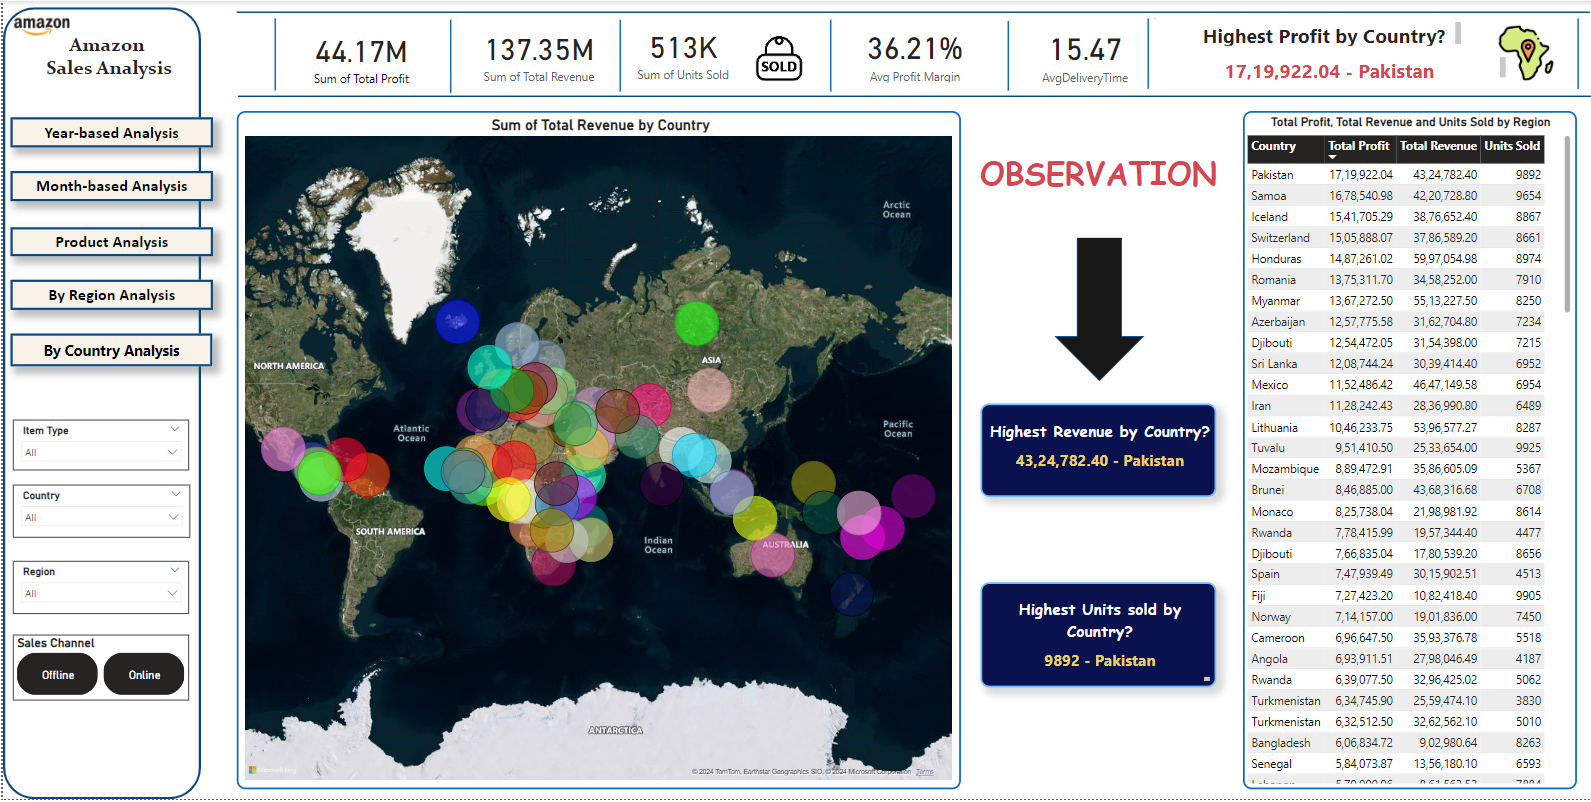

What the dashboard file says about the page in this screenshot:
{"tool":"powerbi","page":{"name":"By Country Analysis","canvas":[2200,1100],"ordinal":5},"visuals":[{"type":"shape","box":[0,9.3,272.8,1091],"z":0,"group":"g1"},{"type":"shape","box":[321.3,0,1864.2,30.9],"z":0},{"type":"textbox","box":[35.5,39.2,220.4,84.1],"z":1000,"group":"g1"},{"type":"shape","box":[323.2,115.8,1864.5,31.8],"z":1000},{"type":"card","fields":{"Values":["Sum(Amazon Sales data.Total Profit)"]},"box":[412.9,31.8,160.7,89.7],"z":2000},{"type":"actionButton","box":[10.4,235.6,278.9,41.6],"z":2000,"group":"g1"},{"type":"shape","box":[612.8,26.2,7.5,100.9],"z":3000},{"type":"actionButton","box":[10.4,311.8,278.9,39.8],"z":3000,"group":"g1"},{"type":"shape","box":[844.4,26.2,13.1,99],"z":4000},{"type":"actionButton","box":[10.4,384.5,278.9,41.6],"z":4000,"group":"g1"},{"type":"card","fields":{"Values":["Sum(Amazon Sales data.Total Revenue)"]},"box":[653.9,29.9,168.1,87.8],"z":5000},{"type":"slicer","fields":{"Values":["Amazon Sales data.Item Type"]},"box":[13.9,576.8,242.5,69.3],"z":5000,"group":"g1"},{"type":"shape","box":[1580.5,24.3,13.1,95.3],"z":6000},{"type":"slicer","fields":{"Values":["Amazon Sales data.Country"]},"box":[13.9,666.9,244.3,72.8],"z":6000,"group":"g1"},{"type":"card","fields":{"Values":["Sum(Amazon Sales data.Units Sold)"]},"box":[857.5,26.2,158.8,89.7],"z":7000},{"type":"slicer","fields":{"Values":["Amazon Sales data.Region"]},"box":[13.9,772.6,242.5,72.8],"z":7000,"group":"g1"},{"type":"shape","box":[1135.9,26.2,7.5,99],"z":8000},{"type":"advancedSlicerVisual","fields":{"Values":["Amazon Sales data.Sales Channel"]},"box":[13.9,873.1,242.5,90.1],"z":8000,"group":"g1"},{"type":"card","fields":{"Values":["Amazon Sales data.Avg Profit Margin"]},"box":[1165.8,26.2,181.2,91.5],"z":9000},{"type":"actionButton","box":[10.4,161.1,278.9,41.6],"z":9000,"group":"g1"},{"type":"image","box":[9.3,14.9,89.7,43],"z":10000,"group":"g1"},{"type":"shape","box":[368,24.3,13.1,99],"z":11000},{"type":"image","box":[1016.3,41.1,106.5,76.6],"z":12000},{"type":"textbox","box":[1634.7,24.3,379.2,43],"z":13000},{"type":"textbox","box":[1588,72.9,487.6,41.1],"z":14000},{"type":"shape","box":[2167.1,24.3,3.7,97.1],"z":15000},{"type":"group","id":"g1","title":"Group 1","box":[0,9.3,289.3,1091],"z":16000},{"type":"card","fields":{"Values":["Amazon Sales data.AvgDeliveryTime"]},"box":[1388.1,24.3,205.5,99],"z":17000},{"type":"map","fields":{"Category":["Amazon Sales data.Country"]},"box":[322.4,151,998,934.7],"z":18000},{"type":"tableEx","title":"Total Profit, Total Revenue and Units Sold by Region","fields":{"Values":["Amazon Sales data.Country","Amazon Sales data.Total Profit","Amazon Sales data.Total Revenue","Amazon Sales data.Units Sold"]},"box":[1707.7,151.9,459.6,934.6],"z":19000},{"type":"shape","box":[1573,24.3,7.5,97.1],"z":20000},{"type":"shape","box":[1380.8,26.9,7.7,96.2],"z":21000},{"type":"shape","box":[10.3,457.3,278.1,45.3],"z":22000},{"type":"textbox","title":"Highest Revenue by Country?","box":[1346.9,555.1,324.5,128.6],"z":23000},{"type":"textbox","title":"Highest Units sold by Country?","box":[1346.9,800,324.5,144.9],"z":24000},{"type":"shape","box":[1449,324.5,124.5,200],"z":25000},{"type":"textbox","box":[1334.7,202,349,124.5],"z":26000},{"type":"image","box":[2028.8,28.8,138.5,84.6],"z":27000}]}

Visuals, with their boxes in screenshot pixels (x1, y1, x2, y2), scaled from the page's 2200x1100 canvas onto the 1591x802 screenshot:
shape: x1=0 y1=7 x2=197 y2=801
shape: x1=232 y1=0 x2=1581 y2=23
textbox: x1=26 y1=29 x2=185 y2=90
shape: x1=234 y1=84 x2=1582 y2=108
card - Sum(Amazon Sales data.Total Profit): x1=299 y1=23 x2=415 y2=89
actionButton: x1=8 y1=172 x2=209 y2=202
shape: x1=443 y1=19 x2=449 y2=93
actionButton: x1=8 y1=227 x2=209 y2=256
shape: x1=611 y1=19 x2=620 y2=91
actionButton: x1=8 y1=280 x2=209 y2=311
card - Sum(Amazon Sales data.Total Revenue): x1=473 y1=22 x2=594 y2=86
slicer - Amazon Sales data.Item Type: x1=10 y1=421 x2=185 y2=471
shape: x1=1143 y1=18 x2=1152 y2=87
slicer - Amazon Sales data.Country: x1=10 y1=486 x2=187 y2=539
card - Sum(Amazon Sales data.Units Sold): x1=620 y1=19 x2=735 y2=85
slicer - Amazon Sales data.Region: x1=10 y1=563 x2=185 y2=616
shape: x1=821 y1=19 x2=827 y2=91
advancedSlicerVisual - Amazon Sales data.Sales Channel: x1=10 y1=637 x2=185 y2=702
card - Amazon Sales data.Avg Profit Margin: x1=843 y1=19 x2=974 y2=86
actionButton: x1=8 y1=117 x2=209 y2=148
image: x1=7 y1=11 x2=72 y2=42
shape: x1=266 y1=18 x2=276 y2=90
image: x1=735 y1=30 x2=812 y2=86
textbox: x1=1182 y1=18 x2=1456 y2=49
textbox: x1=1148 y1=53 x2=1501 y2=83
shape: x1=1567 y1=18 x2=1570 y2=89
"Group 1" group: x1=0 y1=7 x2=209 y2=801
card - Amazon Sales data.AvgDeliveryTime: x1=1004 y1=18 x2=1152 y2=90
map - Amazon Sales data.Country: x1=233 y1=110 x2=955 y2=792
"Total Profit, Total Revenue and Units Sold by Region" tableEx: x1=1235 y1=111 x2=1567 y2=792
shape: x1=1138 y1=18 x2=1143 y2=89
shape: x1=999 y1=20 x2=1004 y2=90
shape: x1=7 y1=333 x2=209 y2=366
"Highest Revenue by Country?" textbox: x1=974 y1=405 x2=1209 y2=498
"Highest Units sold by Country?" textbox: x1=974 y1=583 x2=1209 y2=689
shape: x1=1048 y1=237 x2=1138 y2=382
textbox: x1=965 y1=147 x2=1218 y2=238
image: x1=1467 y1=21 x2=1567 y2=83
